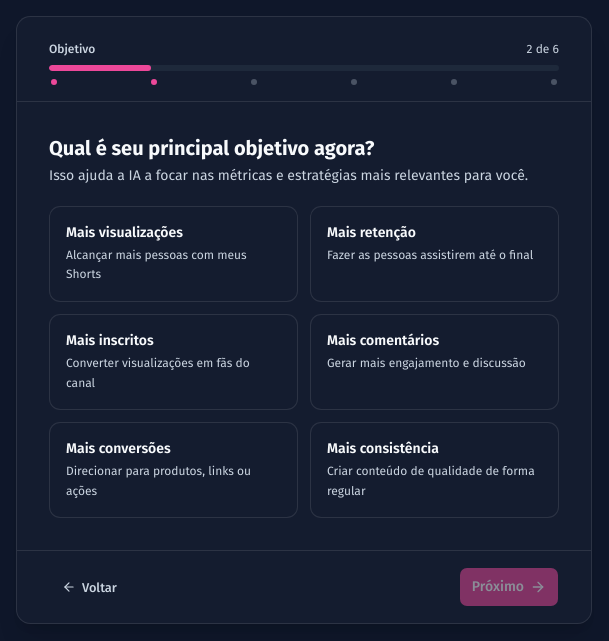
Scenario: Onboarding — Wizard › 4. Seleciona objetivo e botão 'Próximo' fica habilitado
Expected: the button with test id "onboarding-next-btn" is disabled, x1=459 y1=567 x2=559 y2=607
Click the button with test id "goal-views". click: (174, 254)
box: x1=49 y1=206 x2=298 y2=302
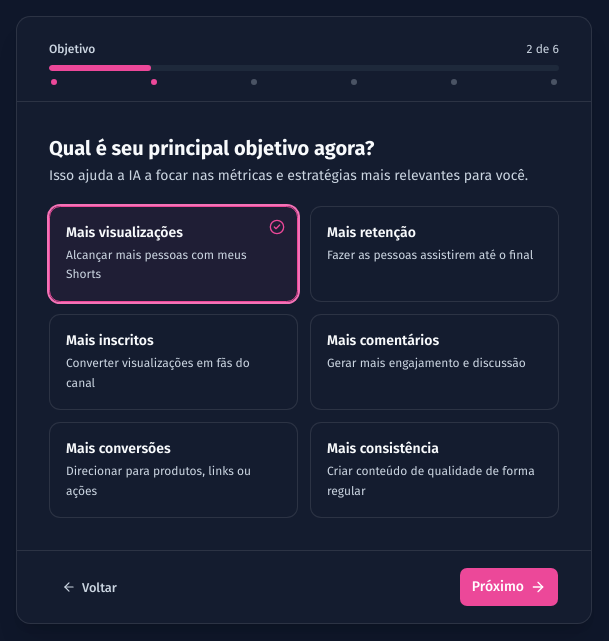
Expected: the button with test id "onboarding-next-btn" is enabled, x1=459 y1=567 x2=559 y2=607
